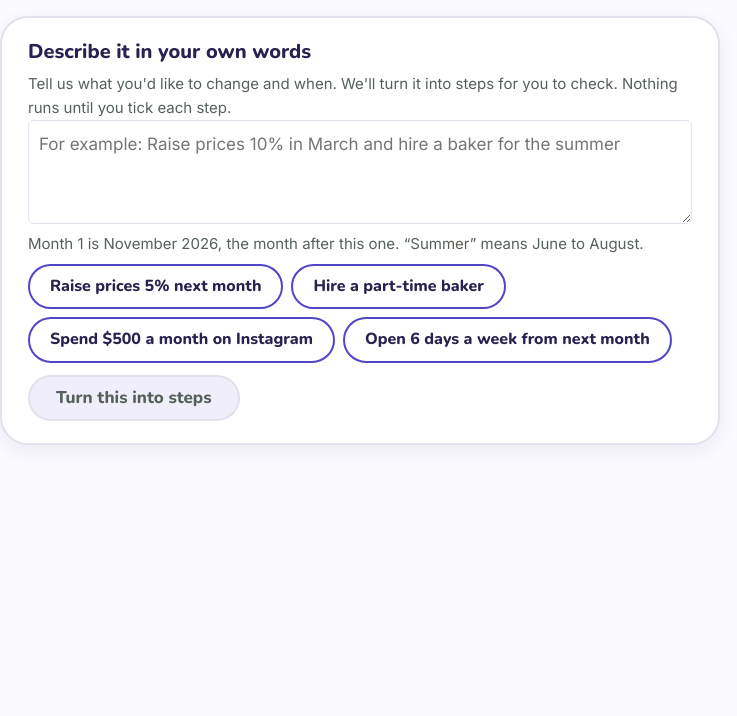
Test case: DescribeBox › says kindly what it cannot do and lists what it can
This screenshot has width=737, height=716.
In the text box named "What would you like to change?": (360, 172) [28,120,692,224], type "open a second shop"
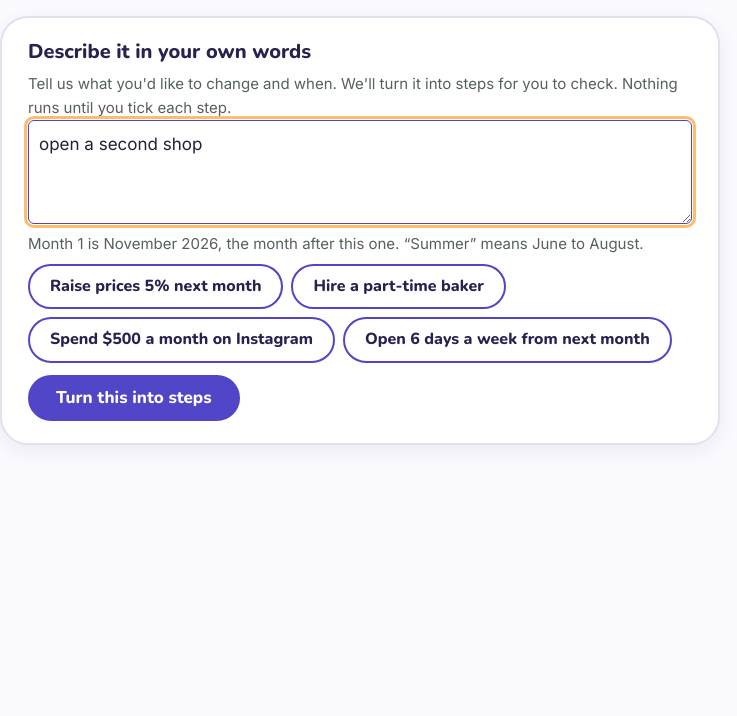
Click the button "Turn this into steps": (134, 398) [28,375,240,421]
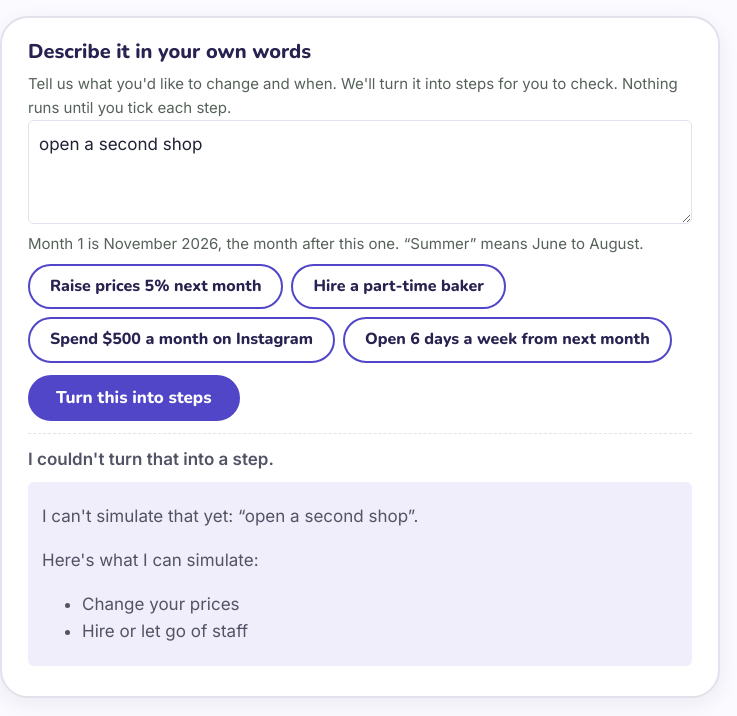
Check: the text "I can't simulate that yet: “open a second shop”." is shown, box [42,506,418,526]
Check: the text "Here's what I can simulate:" is shown, box [42,550,258,570]
Check: the list item "Change your prices" is shown, box [82,594,240,614]
